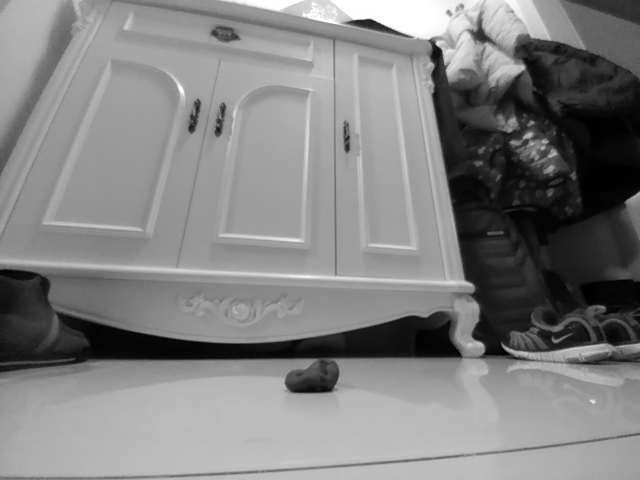pet feces: (285, 355, 339, 396)
shoe: (1, 267, 91, 374), (500, 308, 616, 367), (591, 303, 640, 362)
